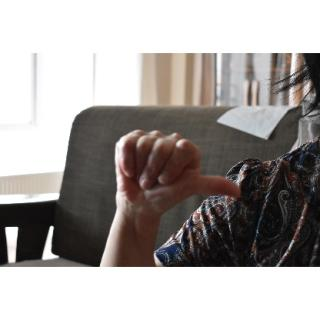DAD: (108, 126, 244, 234)
